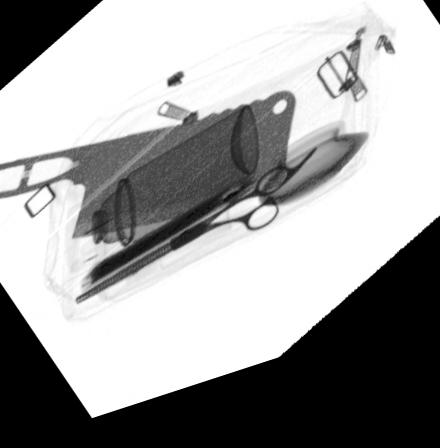Knife: (0, 107, 297, 247)
Powerbank: (78, 183, 257, 294)
Scissors: (72, 162, 321, 311)
Sprayer: (63, 117, 262, 276)
